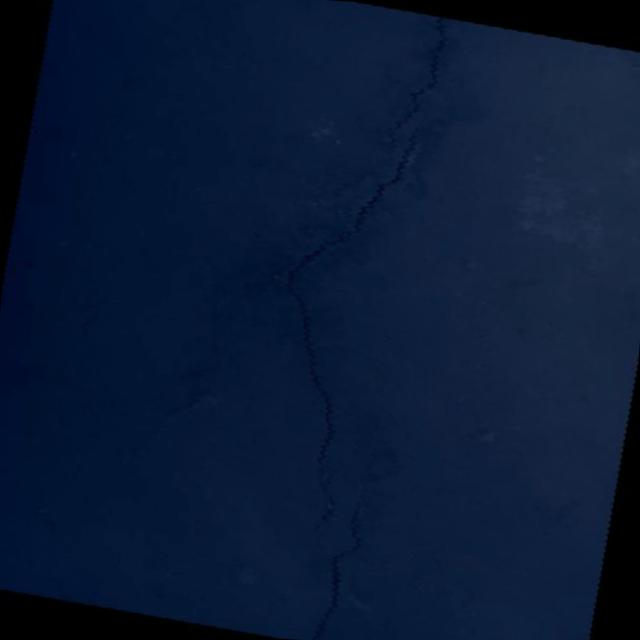crack: (174, 87, 424, 552), (20, 324, 222, 421), (306, 445, 375, 640), (383, 9, 451, 158)
